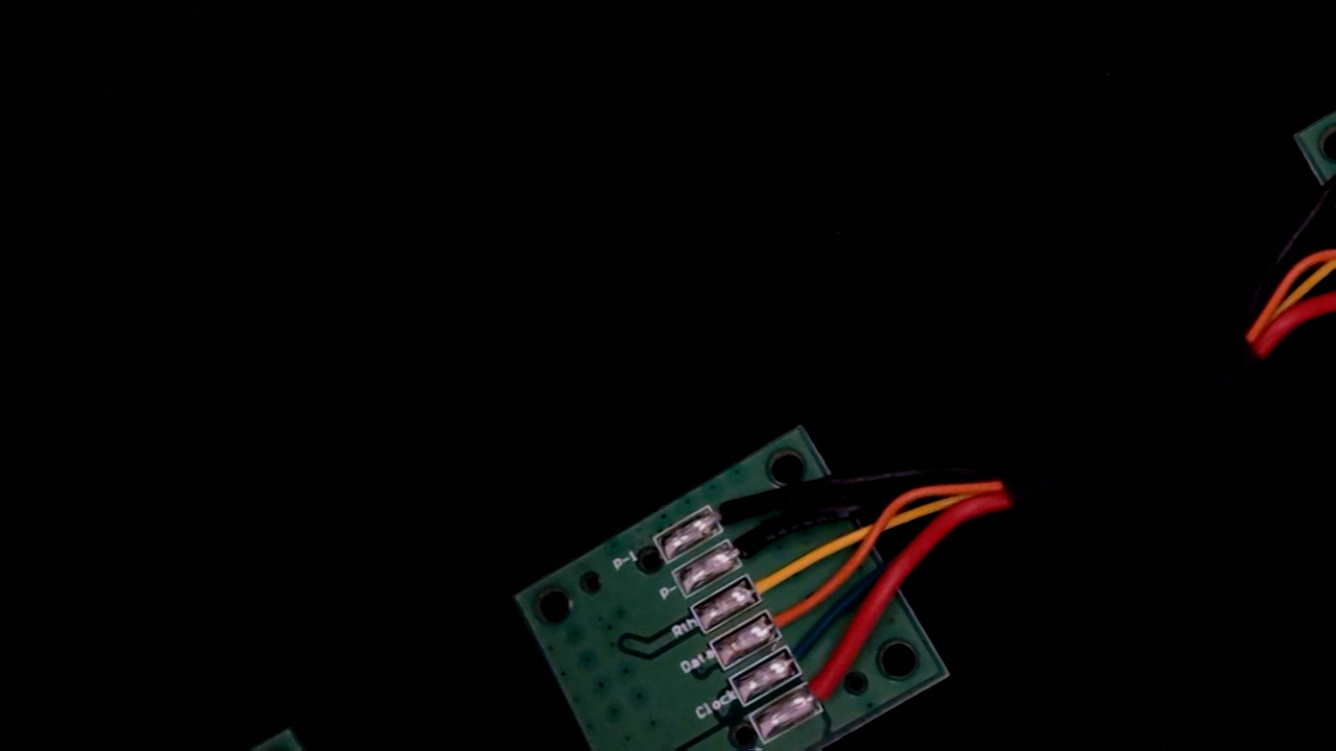Black: (707, 512, 791, 582)
Black1: (689, 477, 767, 542)
Green: (763, 627, 833, 686)
Orange: (744, 583, 825, 650)
Red: (789, 663, 861, 723)
Yellow: (725, 546, 809, 616)
